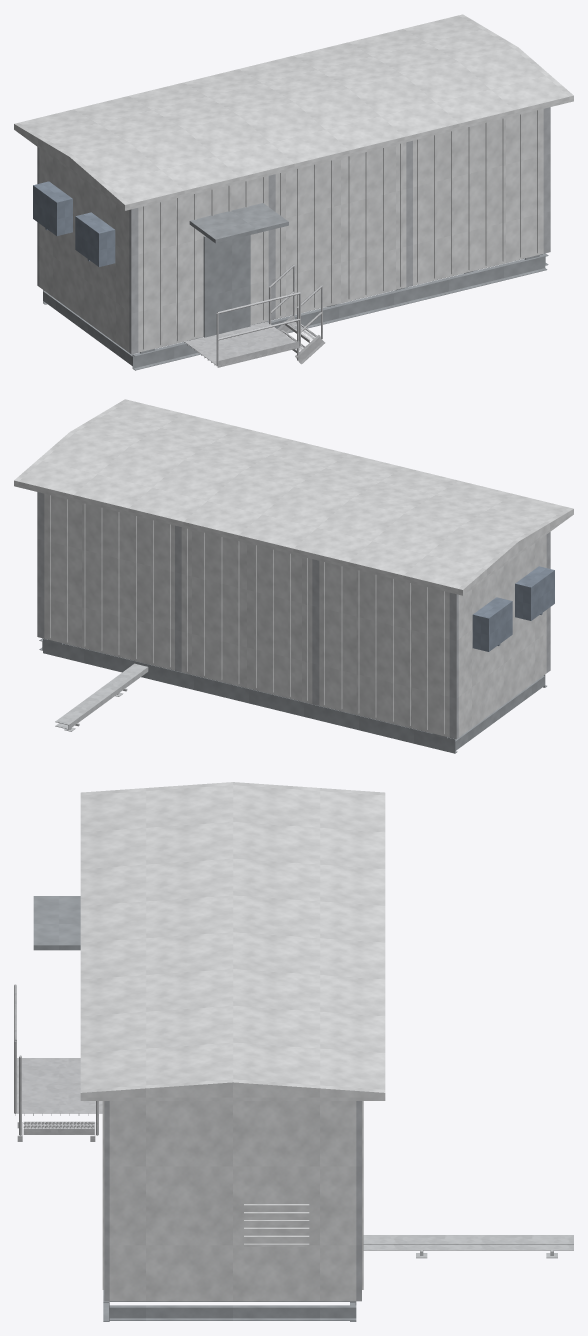
File: hydro-control-room-enclosures.glb
3 views of the same model, one above another, from view 1: azimuth 30°, elevation 25°; view 2: azimuth 150°, elevation 25°; view 3: azimuth 270°, elevation 25° (orthographic). The views are drawn at different scales.
Parts seen in each view (by area): view 1: WallPanels&Louvres, Roof, Door&Canopy, SkidBaseFrame, WallFrame, Landing&Steps, HVACUnits(context); view 2: WallPanels&Louvres, Roof, SkidBaseFrame, WallFrame, HVACUnits(context), CableEntry; view 3: Roof, WallPanels&Louvres, Landing&Steps, SkidBaseFrame, CableEntry, Door&Canopy, WallFrame.
Boxes of the visible parts, bbox=[...] form: WallPanels&Louvres: bbox=[39, 109, 543, 352]; Roof: bbox=[14, 14, 573, 210]; Door&Canopy: bbox=[189, 203, 288, 337]; SkidBaseFrame: bbox=[43, 253, 548, 370]; WallFrame: bbox=[37, 107, 550, 354]; Landing&Steps: bbox=[184, 264, 325, 367]; HVACUnits(context): bbox=[33, 181, 115, 266]; WallPanels&Louvres: bbox=[44, 493, 546, 737]; Roof: bbox=[14, 399, 573, 595]; SkidBaseFrame: bbox=[39, 638, 546, 753]; WallFrame: bbox=[37, 492, 550, 739]; HVACUnits(context): bbox=[472, 566, 554, 651]; CableEntry: bbox=[55, 663, 148, 731]; Roof: bbox=[80, 782, 385, 1100]; WallPanels&Louvres: bbox=[102, 1101, 363, 1301]; Landing&Steps: bbox=[14, 984, 102, 1141]; SkidBaseFrame: bbox=[103, 1290, 356, 1321]; CableEntry: bbox=[363, 1235, 573, 1258]; Door&Canopy: bbox=[33, 896, 80, 950]; WallFrame: bbox=[104, 1101, 361, 1301].
Bounding box in the file's own units: 9.87 × 3.91 × 7.72.
6 materials, 6 textured.
